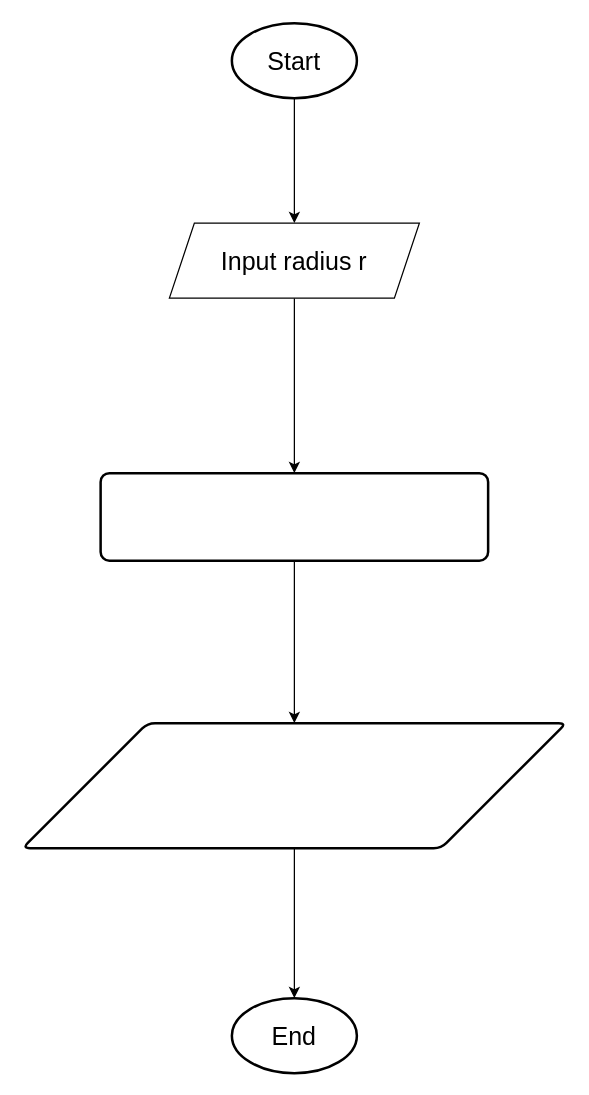
Image size: 589x1095. Some labels were removed from this diagram. Each missing label, with the box of its shape:
Area = Pi * r *r: (99, 471, 489, 561)
Display Area: (21, 721, 567, 849)
